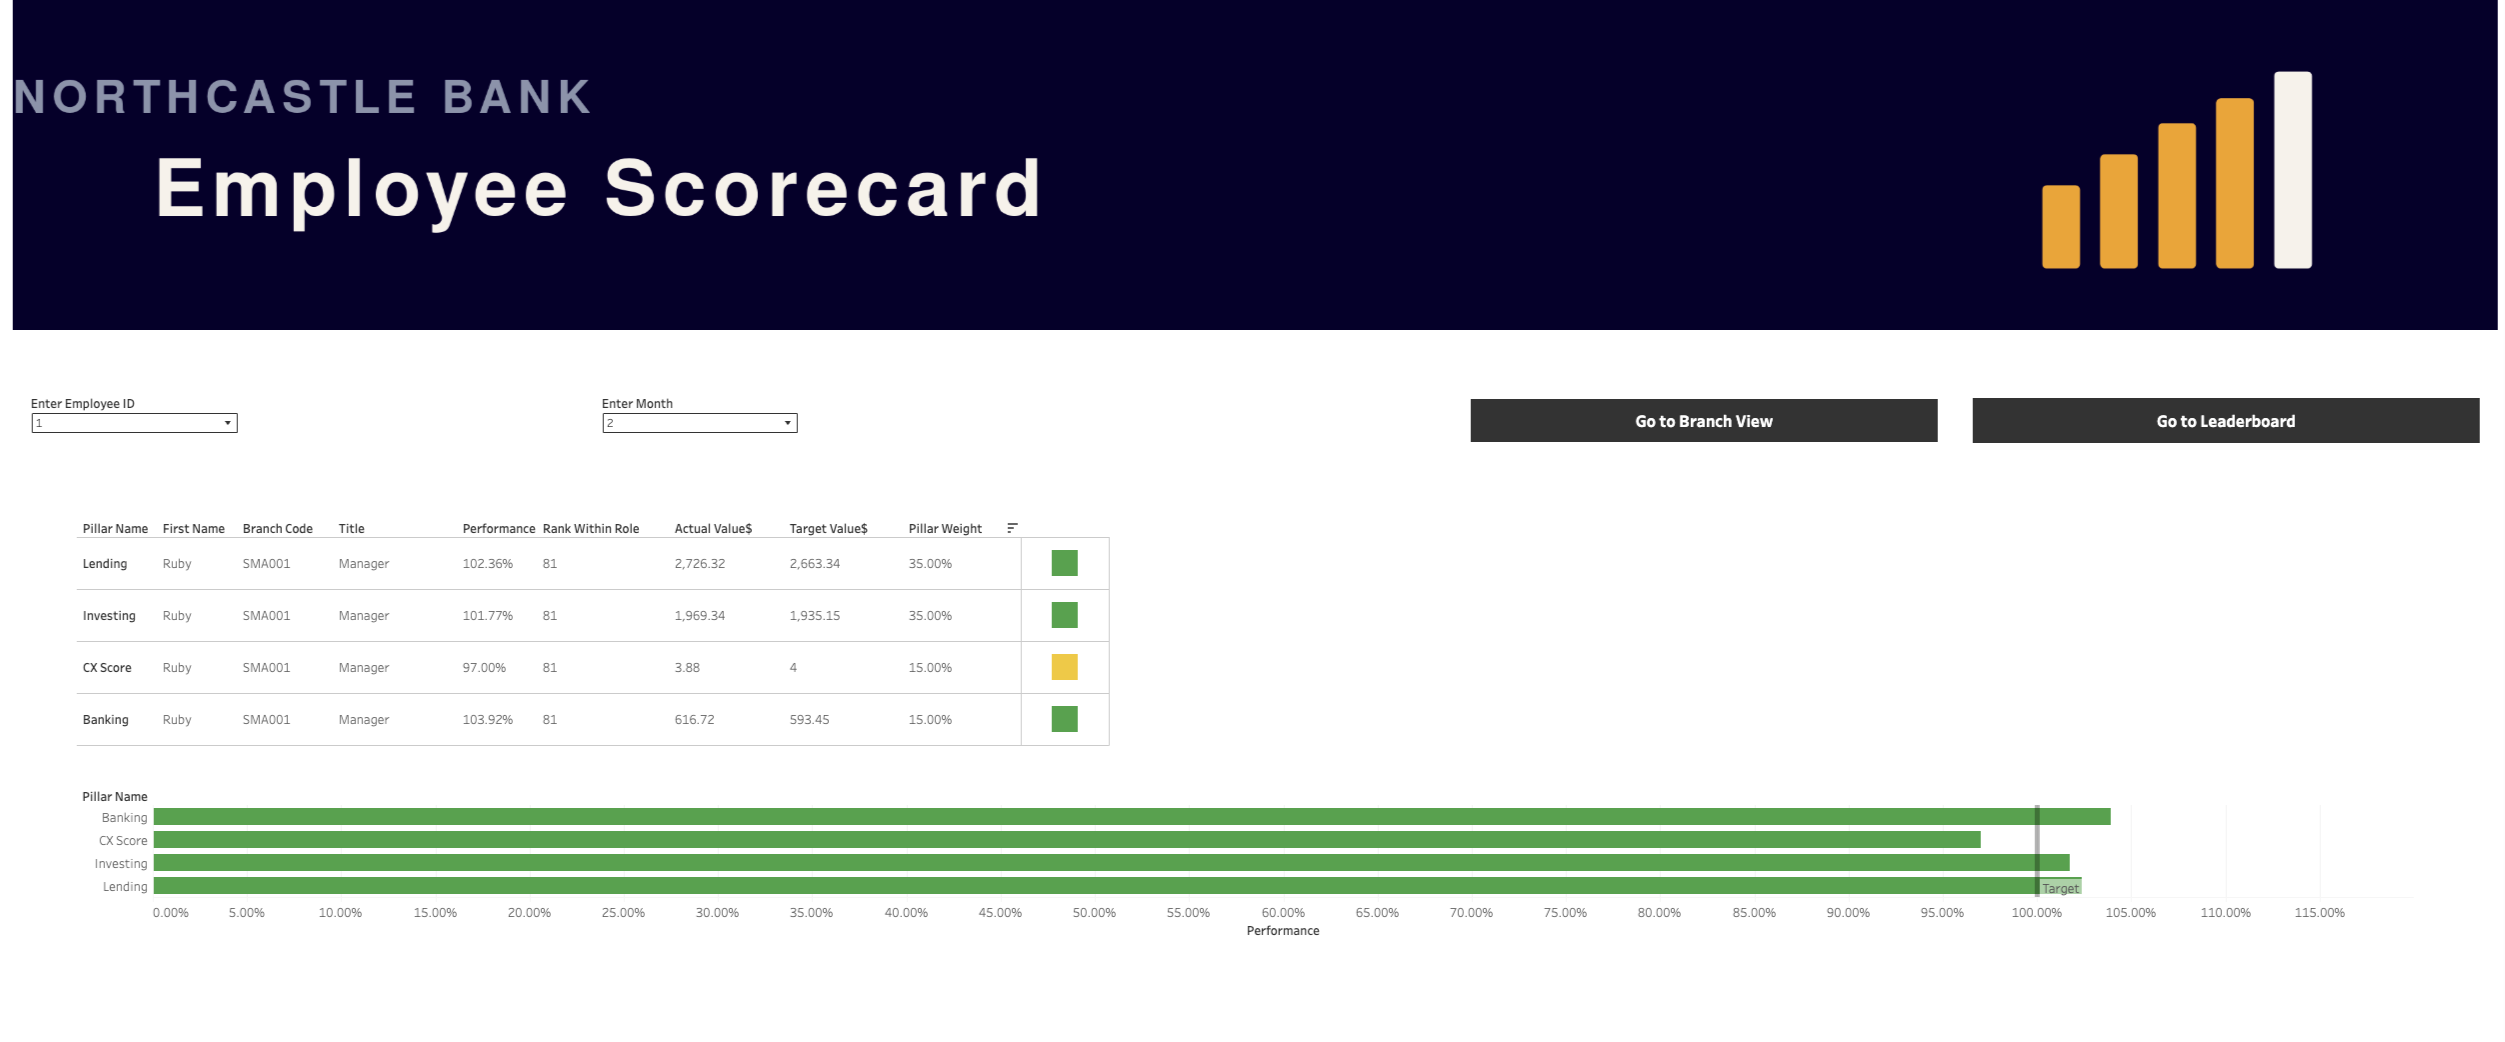

Layout of this report page (visuals, bound fields, positions):
{"tool":"tableau","page":{"name":"FInal My Scorecard ","canvas":[1000,1000],"units":"permille","ordinal":1},"visuals":[{"type":"image","param":"/Users/saran/Downloads/dominion_trust_employee_performance_scorecard_banner.png","box":[3.1,5.7,993.7,988.7]},{"type":"parameter","param":"[Parameters].[Parameter 3623807528333328]","box":[205.2,308.2,116,38.6]},{"type":"parameter","param":"[Parameters].[Parameter 3623807549329428]","box":[400.4,310.7,98.7,36.1]},{"type":"dashboard-object","box":[540.1,310.7,88.4,37.8]},{"type":"dashboard-object","box":[655.6,311.6,91,38.6]},{"type":"parameter","param":"[Parameters].[Parameter 3623807499624452]","box":[32.8,317.6,130.6,32.6]},{"type":"worksheet","title":"mployee - Pillar Table","mark":"Automatic","rows":["pillar_name","branch_code","rank_within_role","rank_within_branch","pct_to_target","branch_id","employee_id","Calculation_3623807514517515","role (fact_targets)","Calculation_3623807517364236","Calculation_3623807520337935"],"box":[33.2,368.6,941.8,297.5]},{"type":"worksheet","title":"Pillars breakdown","mark":"Bar","rows":["pillar_name"],"cols":["pct_to_target"],"box":[30.6,645.3,933.2,255]}]}

Visuals, with their boxes on the dashboard's canvas, which has no fixed pixel size, in thousandths of its width and height (x1, y1, x2, y2). These are canvas units, not pixel positions in the 2505x1042 screenshot, which may show the page scaled, cropped or inside an application window:
image: (3, 6, 997, 994)
parameter: (205, 308, 321, 347)
parameter: (400, 311, 499, 347)
dashboard-object: (540, 311, 628, 348)
dashboard-object: (656, 312, 747, 350)
parameter: (33, 318, 163, 350)
"mployee - Pillar Table" worksheet: (33, 369, 975, 666)
"Pillars breakdown" worksheet (Bar marks): (31, 645, 964, 900)
